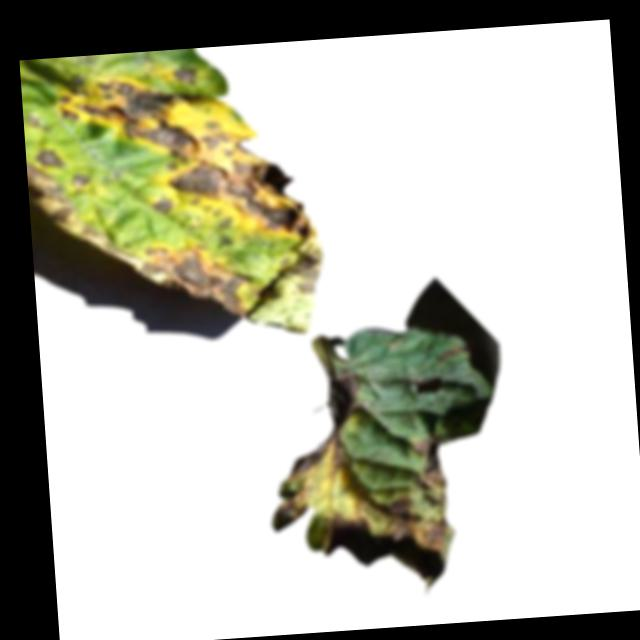Early_blight: (21, 55, 329, 351), (269, 366, 462, 604), (435, 343, 466, 361)
